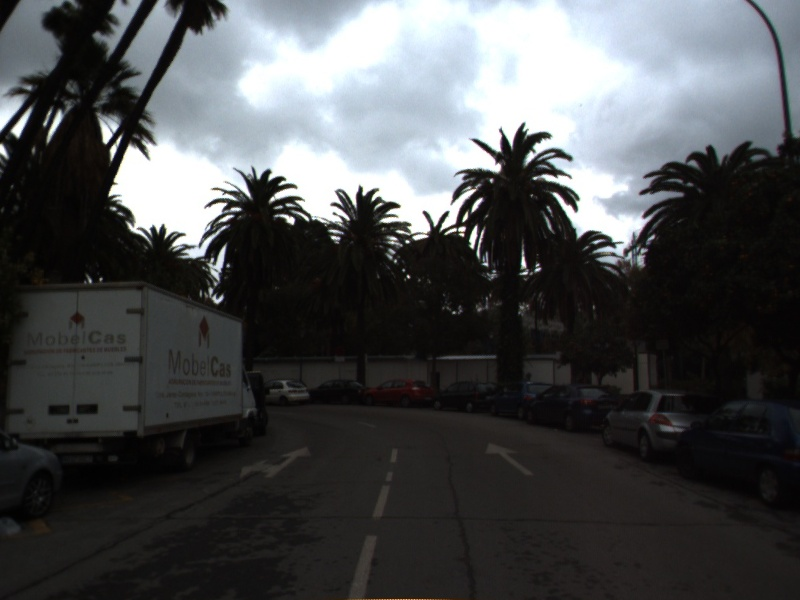STRAIGHT: (483, 440, 535, 477)
STRAIGHT_LEFT: (237, 444, 313, 481)
